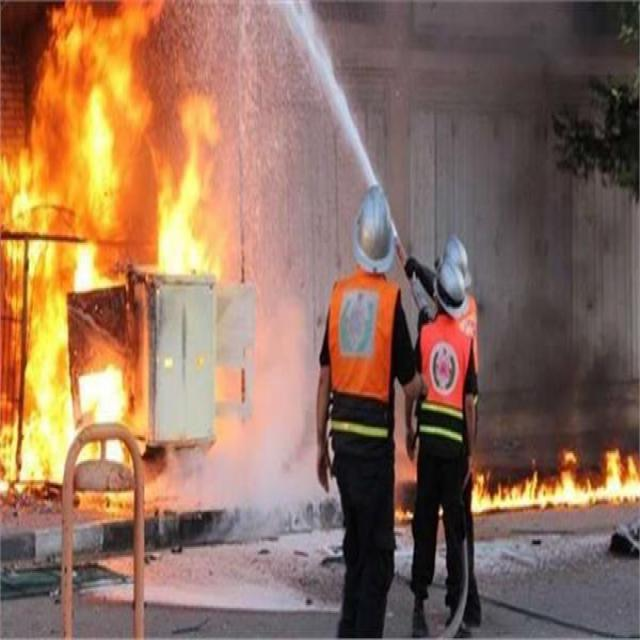Fire: (0, 5, 233, 480), (462, 444, 639, 516)
